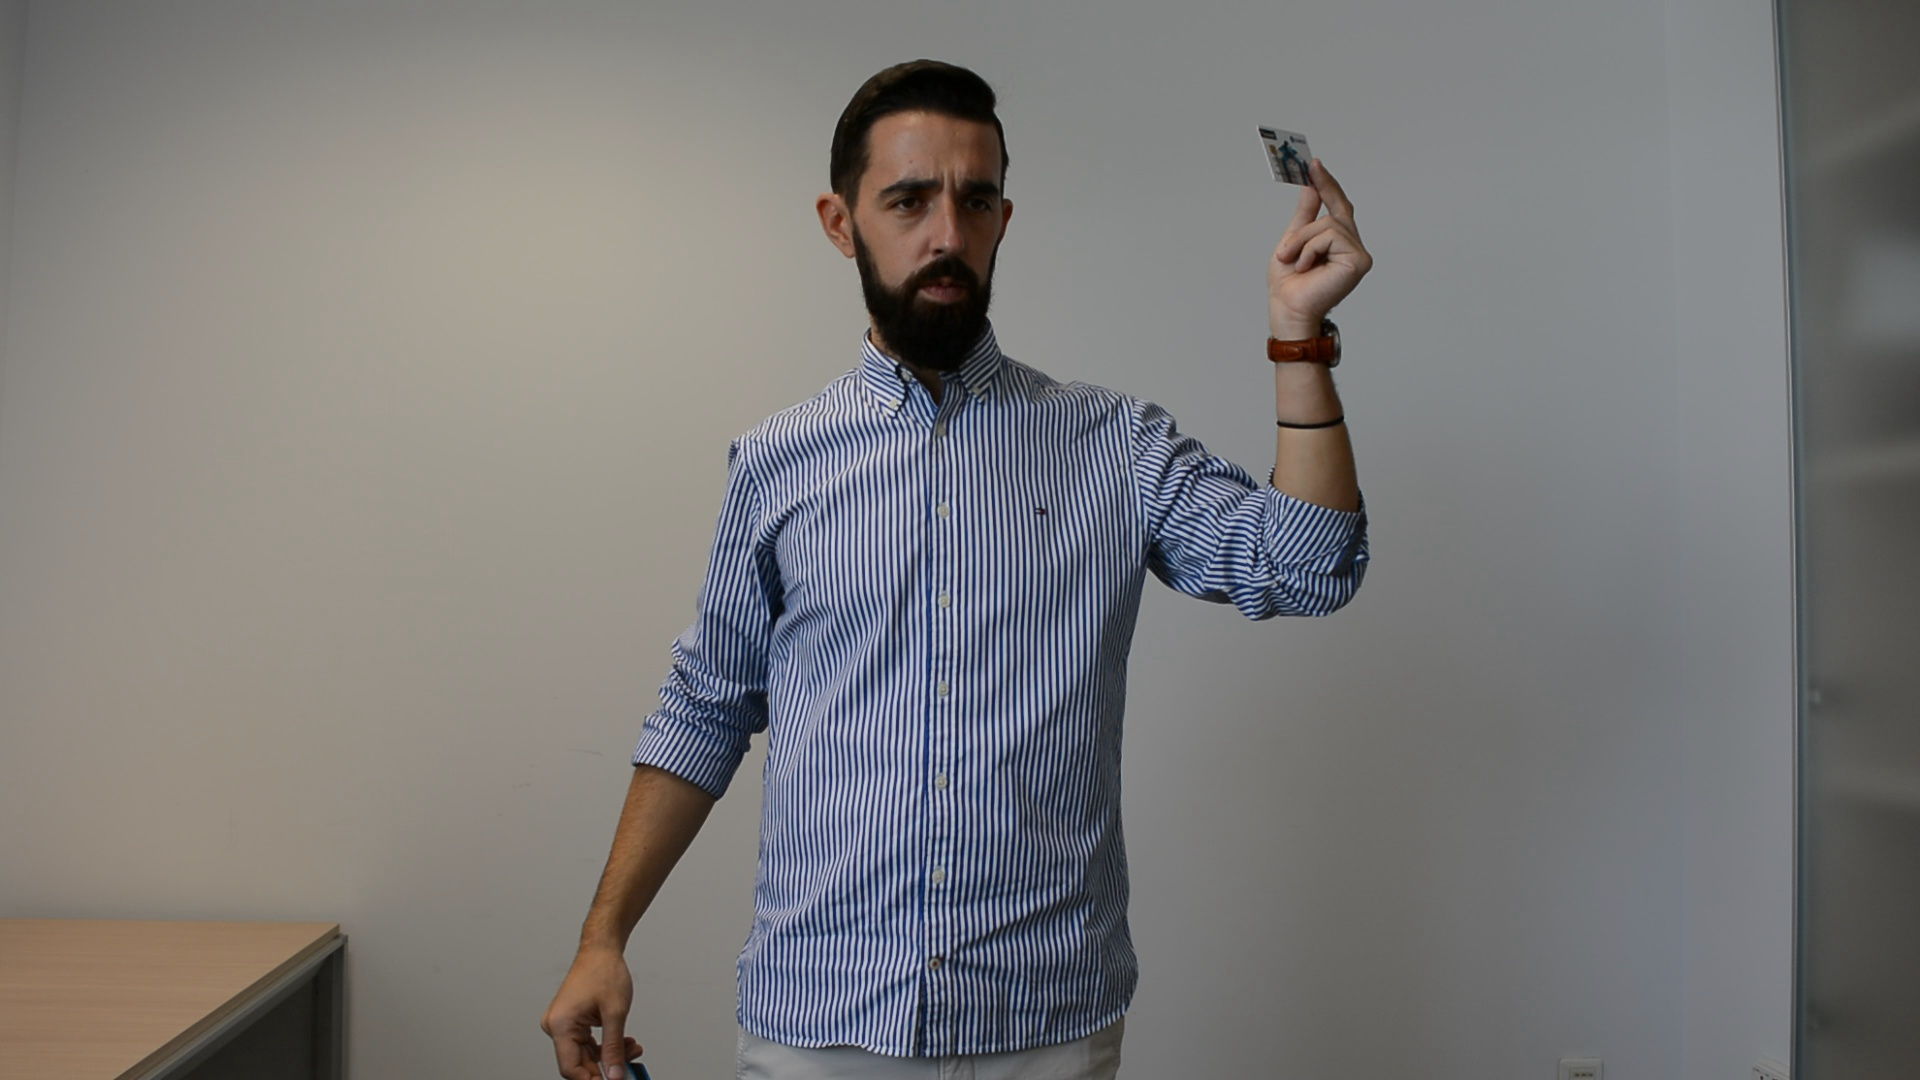tarjeta: (1254, 119, 1324, 193)
